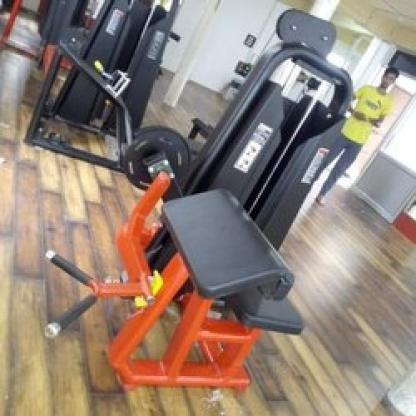arm curl machine: (41, 153, 304, 390)
